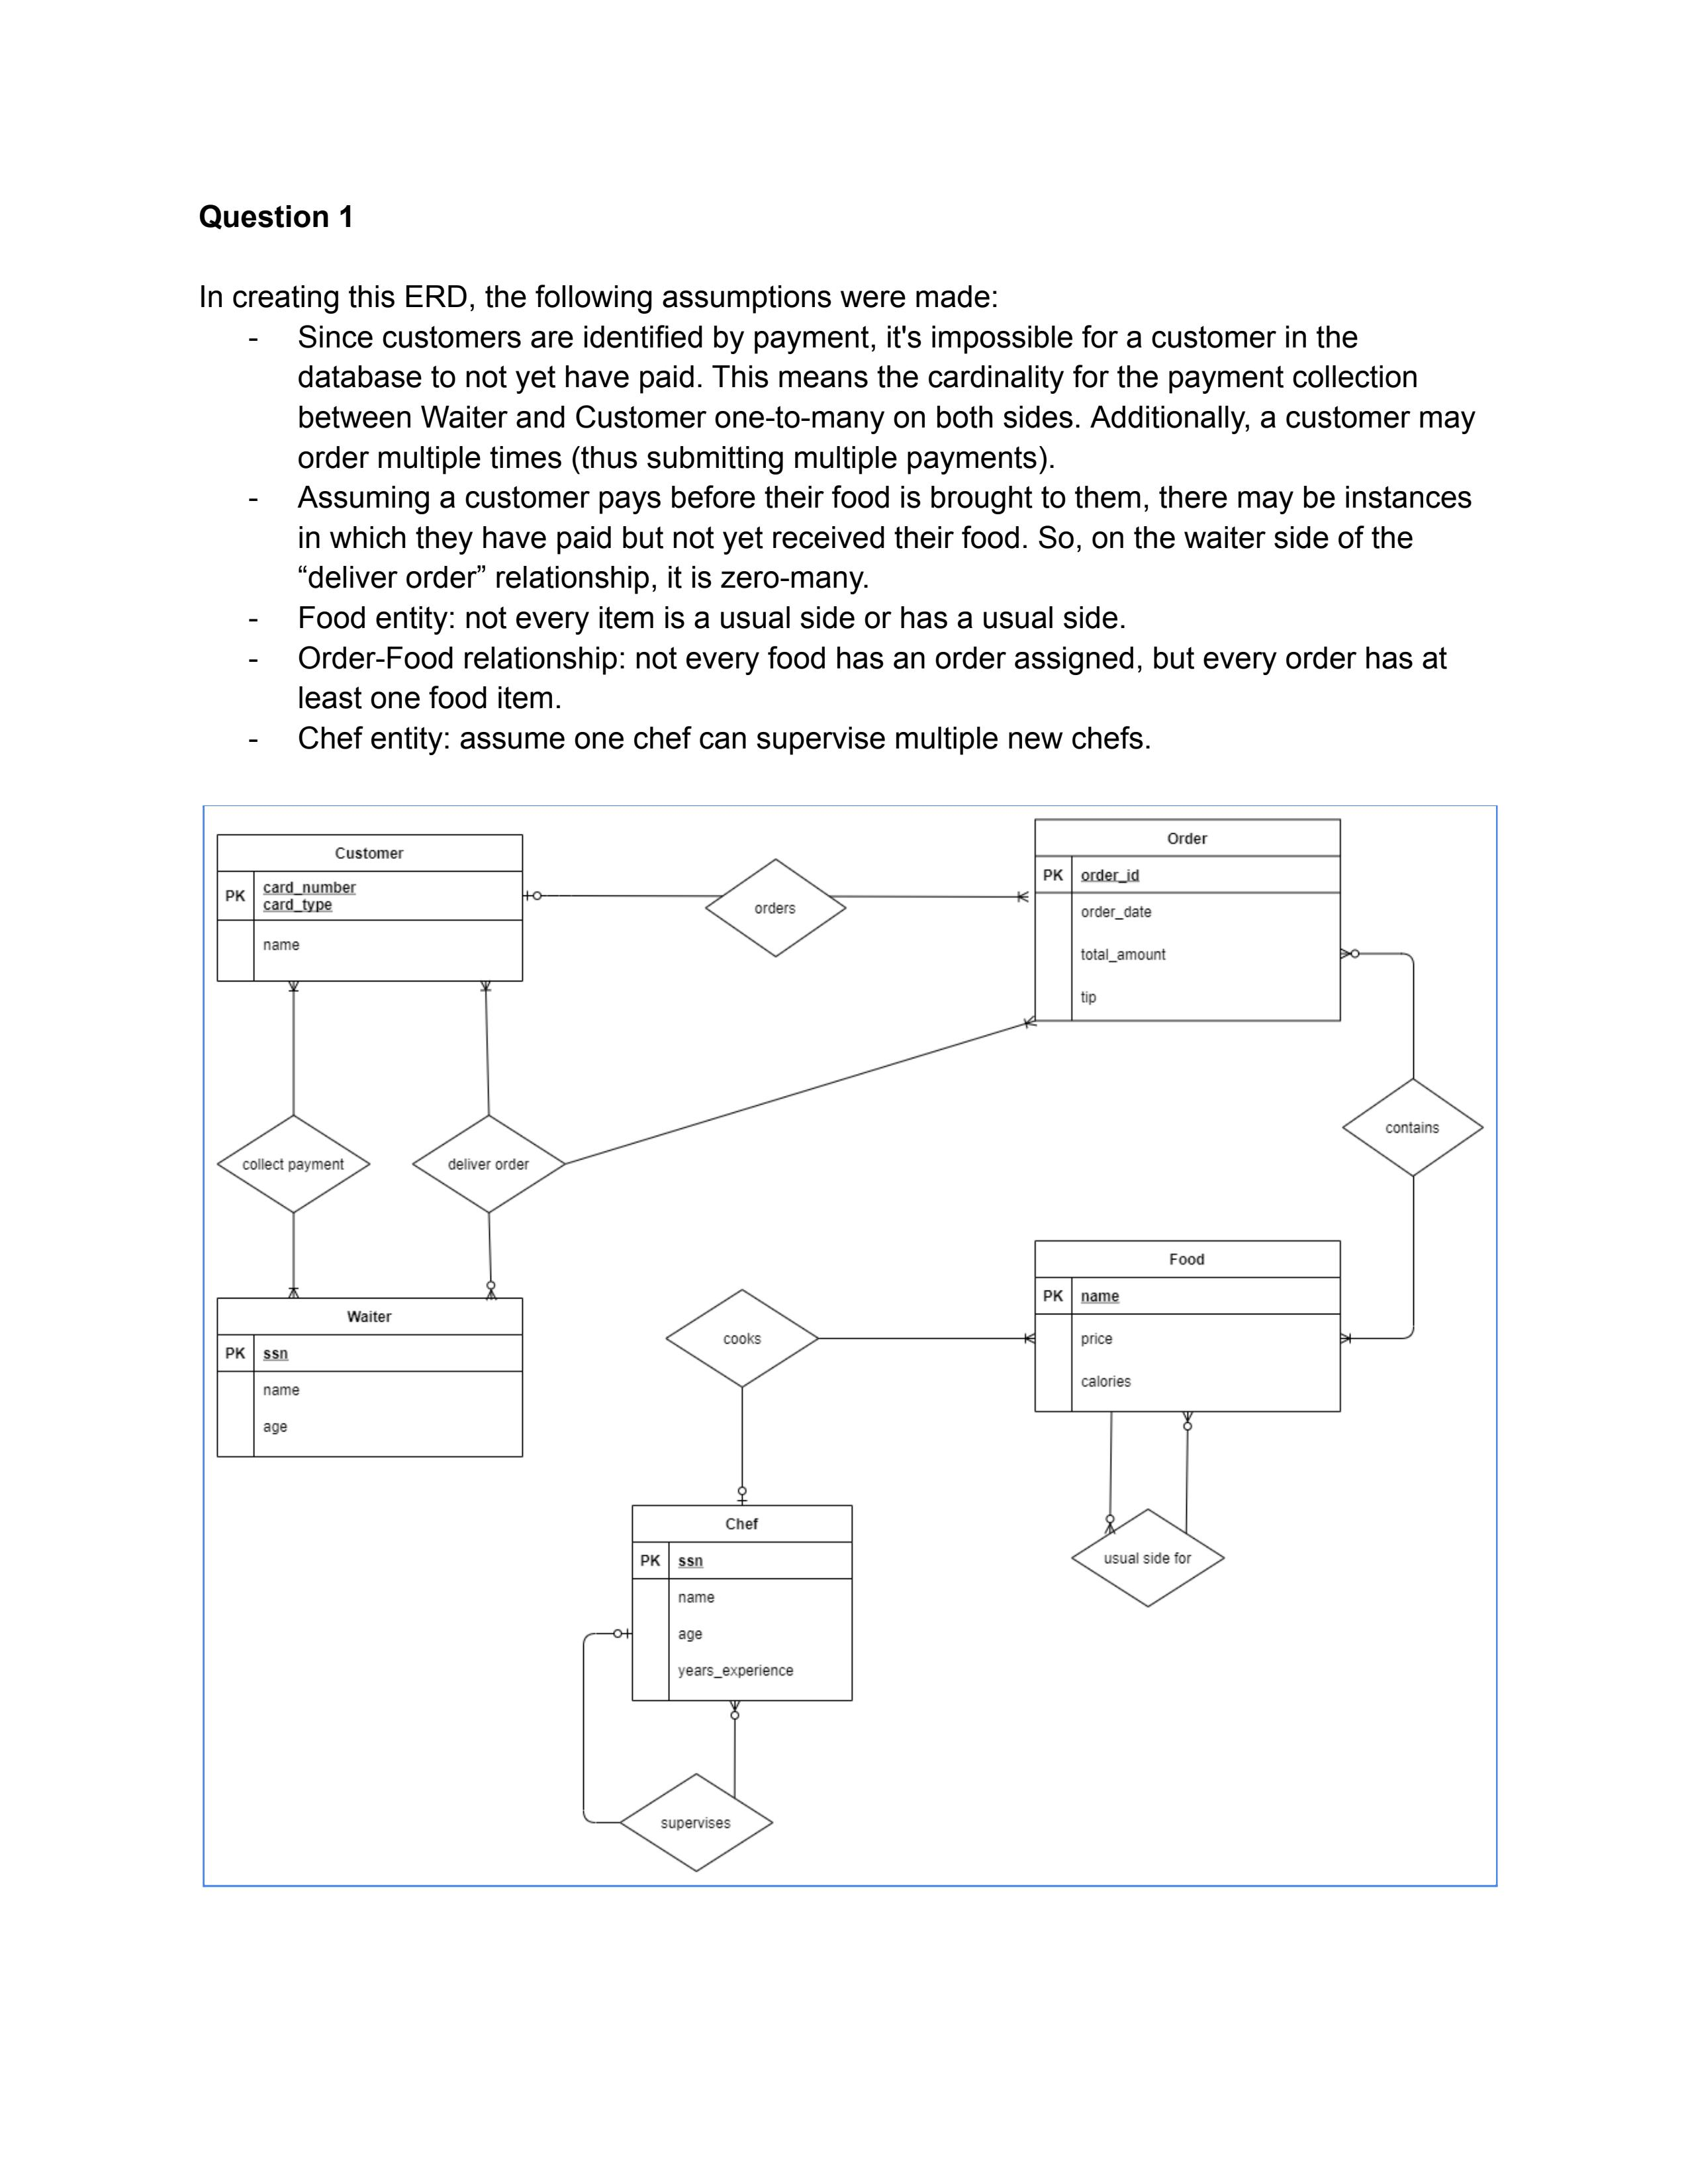Entity: (1034, 817, 1342, 1025), (1034, 1239, 1342, 1413), (216, 1298, 525, 1461), (215, 831, 525, 984), (631, 1505, 855, 1704)
Relationship: (411, 1117, 566, 1218), (1071, 1509, 1225, 1608), (667, 1289, 819, 1388), (216, 1115, 371, 1213), (704, 858, 848, 957), (1342, 1078, 1484, 1177)
